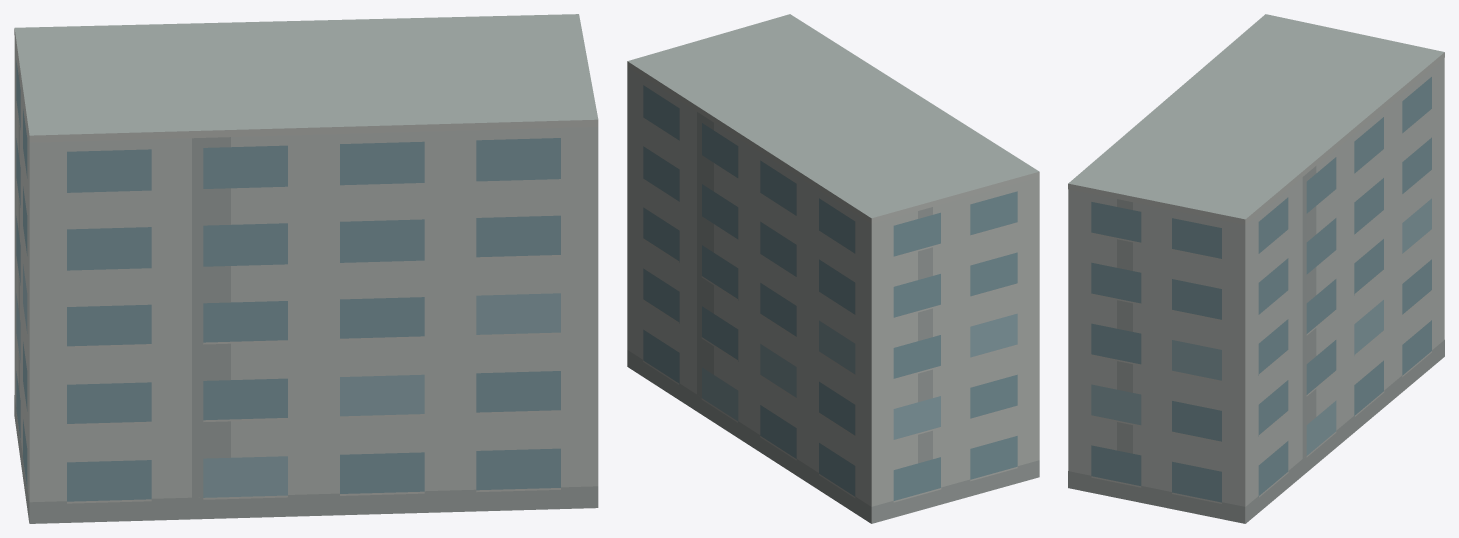
The model's file is survey-upis-32888530.glb.
3 views of the same model, side by side, from view 1: azimuth 30°, elevation 25°; view 2: azimuth 150°, elevation 25°; view 3: azimuth 270°, elevation 25° (orthographic). The views are drawn at different scales.
Parts seen in each view (by area): view 1: survey-upis-32888530.tmp; view 2: survey-upis-32888530.tmp; view 3: survey-upis-32888530.tmp.
Part boxes in pixels (<box>): survey-upis-32888530.tmp: <box>14,14,598,523</box>; survey-upis-32888530.tmp: <box>627,14,1039,523</box>; survey-upis-32888530.tmp: <box>1068,14,1444,523</box>.
Size of the model in its own units: 19.1 by 13.2 by 14.81.
